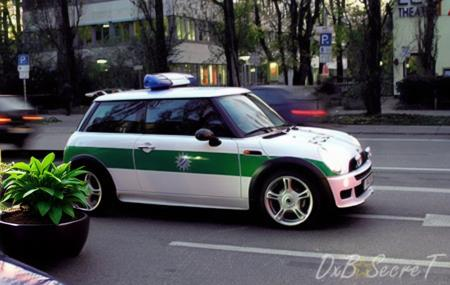car: (63, 72, 376, 230)
pottedplant: (1, 150, 89, 257)
